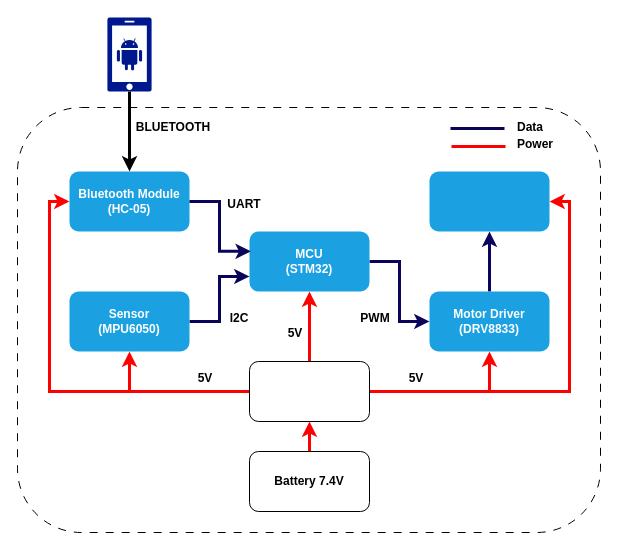
Image size: 618x550. Some labels were removed from this diagram. Each missing label, with the centre of its shape:
"DC Motor s" belongs at (x=489, y=201).
"DC-DC Converter (LM2596)" belongs at (x=309, y=391).
